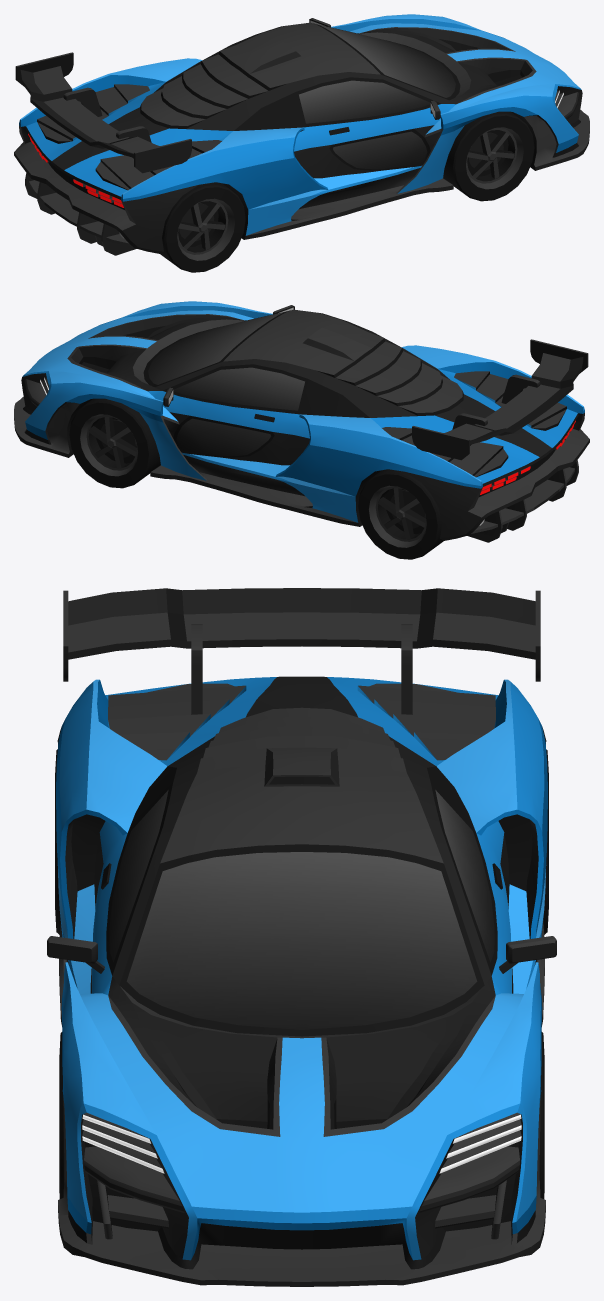
The model's file is Car_130.glb.
3 views of the same model, one above another, from view 1: azimuth 30°, elevation 25°; view 2: azimuth 150°, elevation 25°; view 3: azimuth 270°, elevation 25° (orthographic). The views are drawn at different scales.
Parts seen in each view (by area): view 1: Car_130, wheel_1_Car_130_Wheel_1R, wheel_3_Car_130_Wheel_2R; view 2: Car_130, wheel_0_Car_130_Wheel_1L, wheel_2_Car_130_Wheel_2L; view 3: Car_130.
Boxes of the visible parts, box(x1,y1,x2,y2) form: Car_130: box(14, 14, 589, 255); wheel_1_Car_130_Wheel_1R: box(443, 111, 534, 201); wheel_3_Car_130_Wheel_2R: box(160, 182, 245, 272); Car_130: box(14, 301, 589, 542); wheel_0_Car_130_Wheel_1L: box(69, 398, 160, 488); wheel_2_Car_130_Wheel_2L: box(358, 469, 443, 559); Car_130: box(47, 588, 556, 1286).
Bounding box in the file's own units: 4.82 × 1.32 × 2.07.
2 materials, 2 textured.
